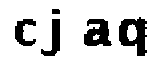a: (77, 14, 111, 49)
c: (11, 16, 40, 49)
j: (38, 6, 70, 59)
q: (115, 17, 152, 60)
